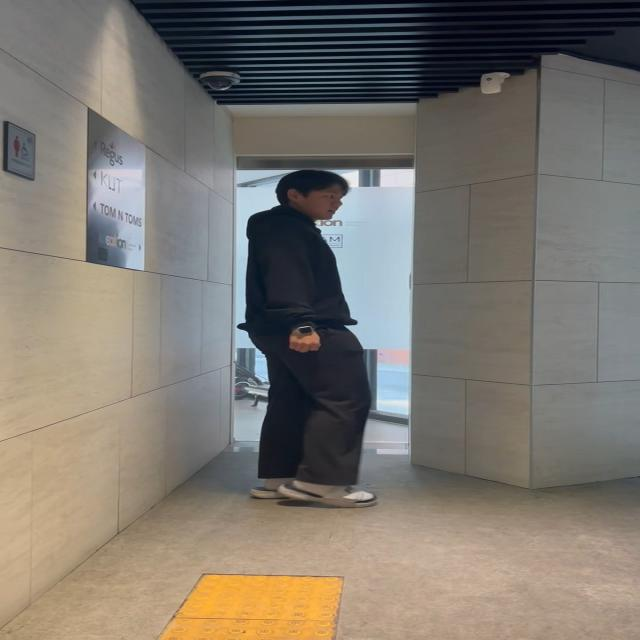leg: (304, 362, 384, 508)
